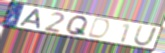1: (121, 23, 133, 44)
2: (43, 11, 67, 34)
A: (17, 8, 42, 30)
D: (85, 17, 112, 41)
Q: (64, 15, 90, 38)
U: (132, 25, 159, 48)
